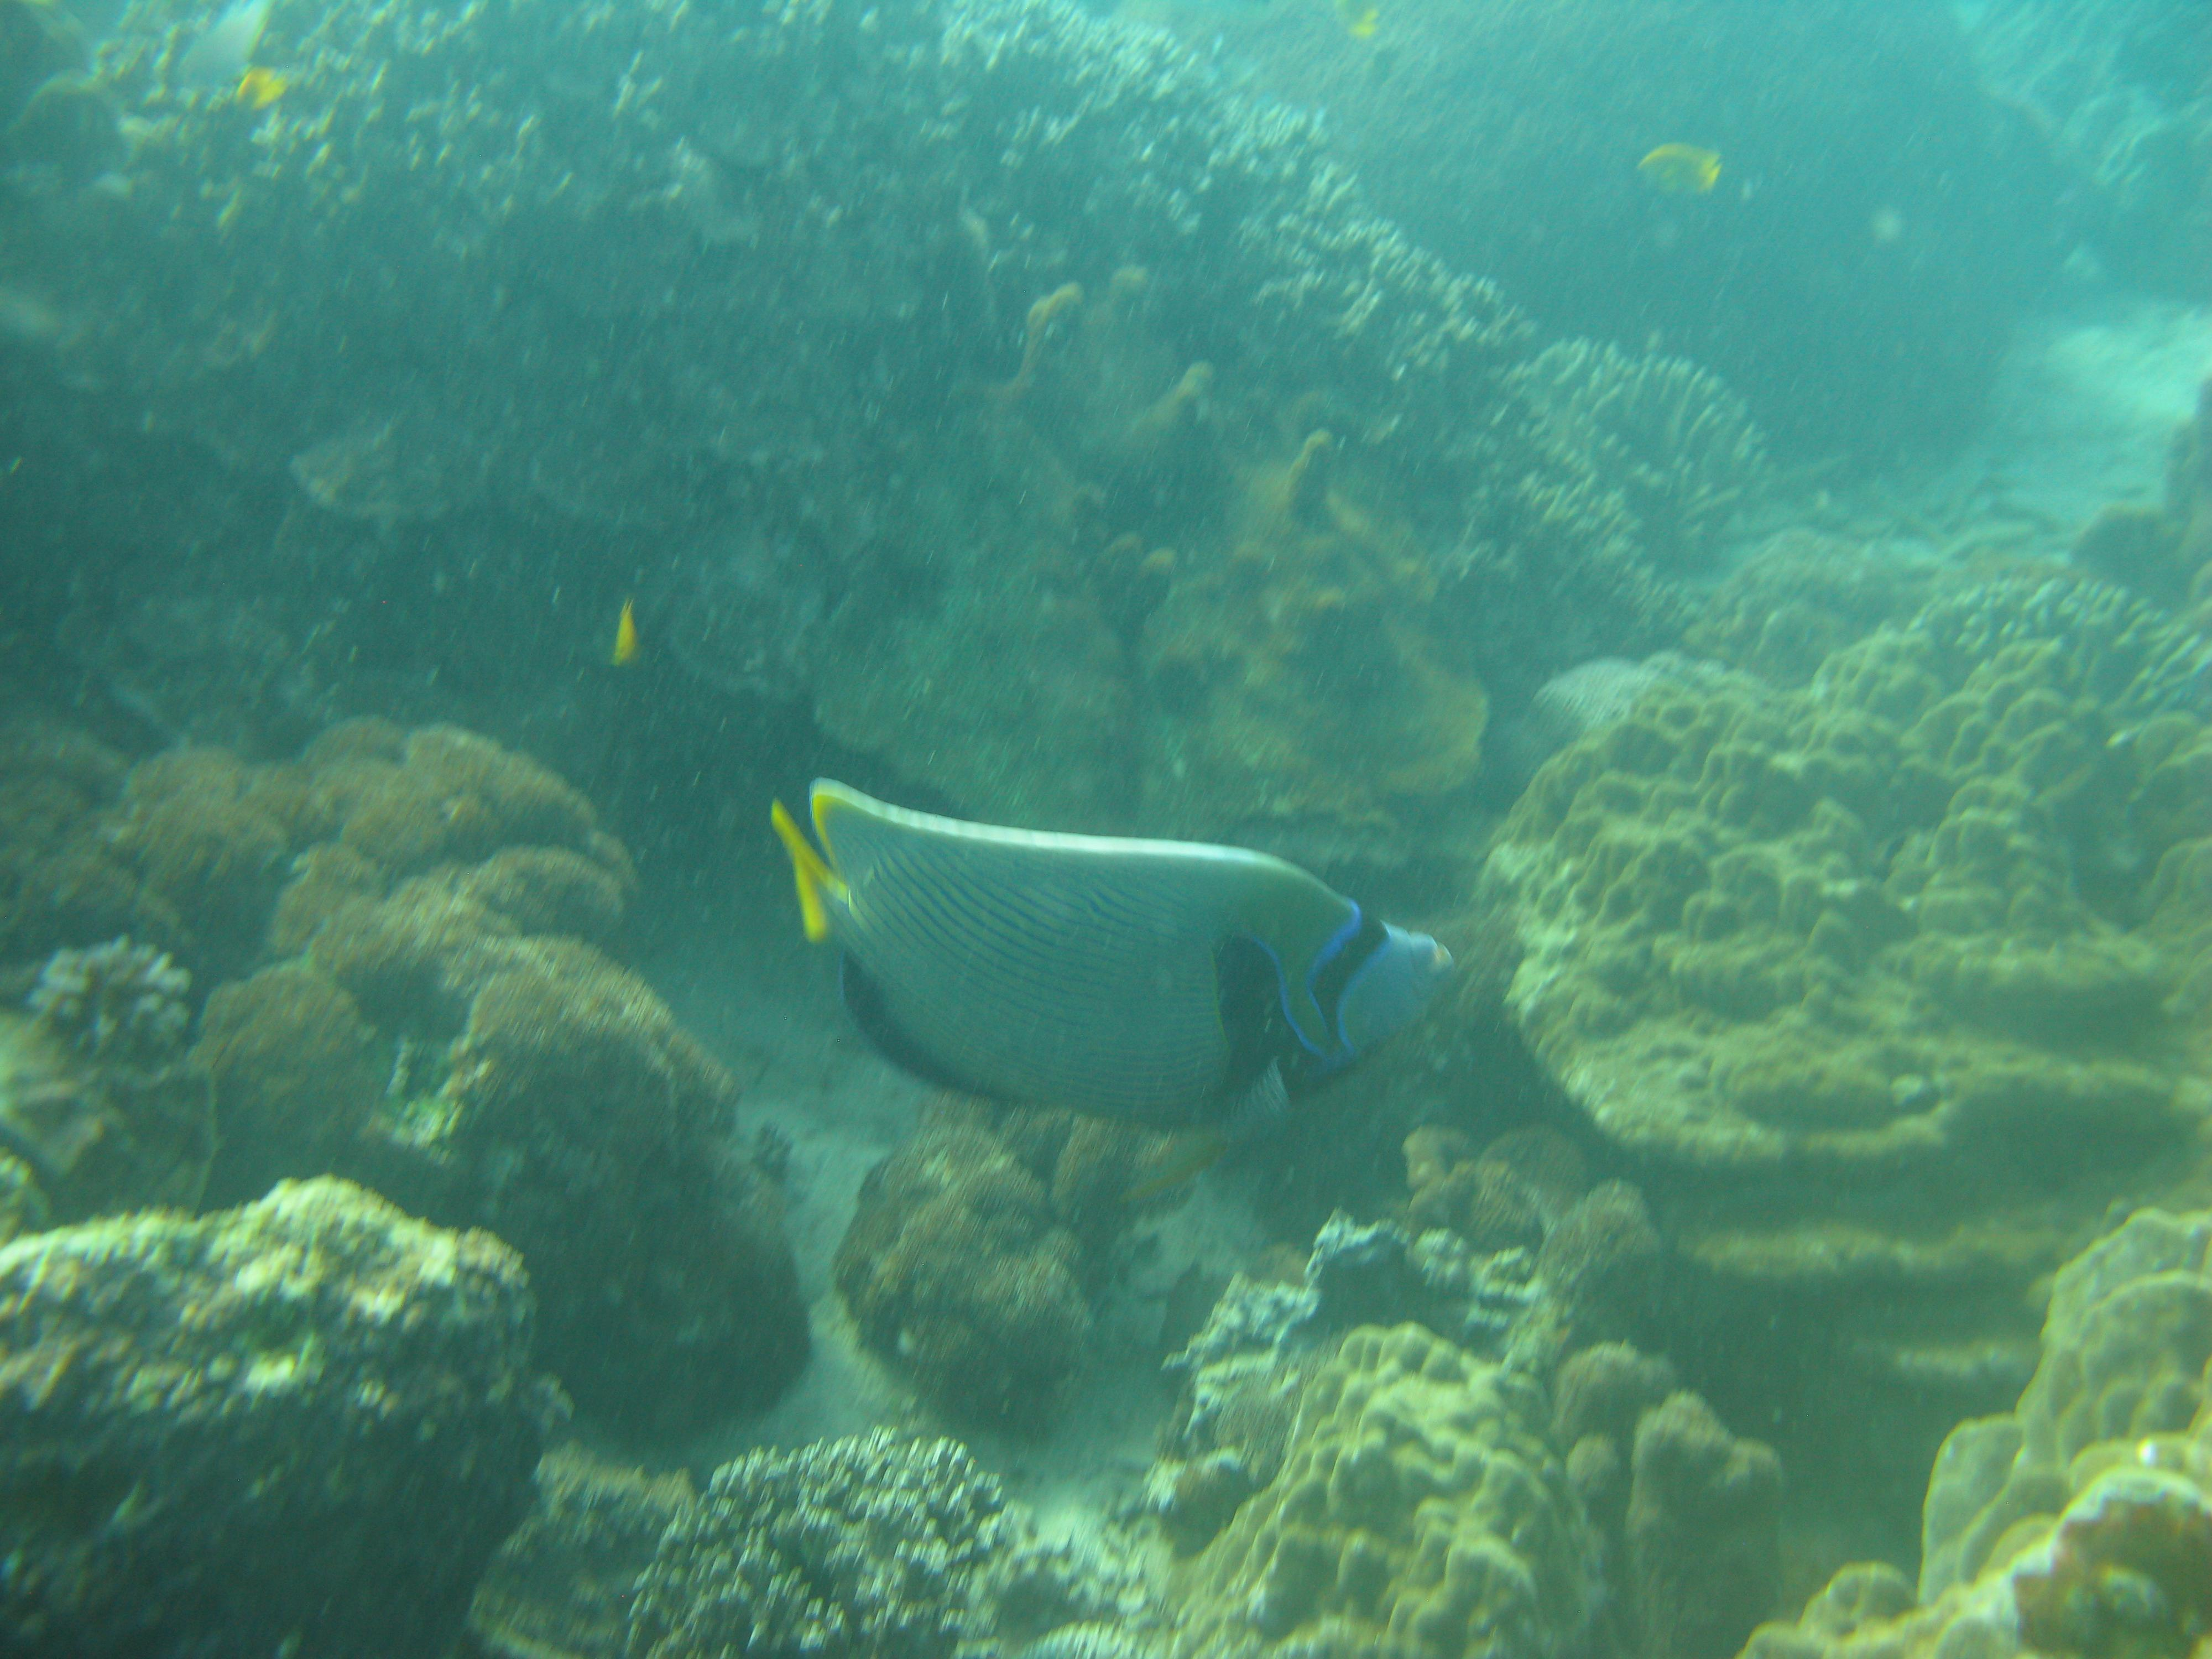Fish: (744, 714, 1477, 1186)
